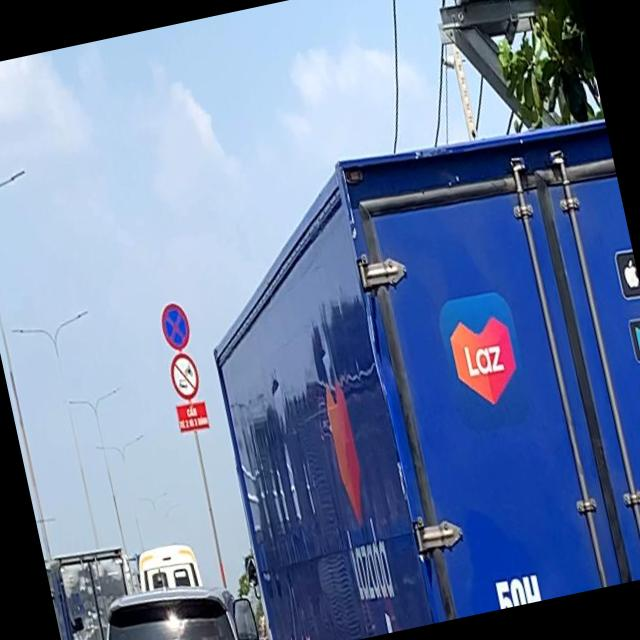P-130: (155, 297, 193, 353)
